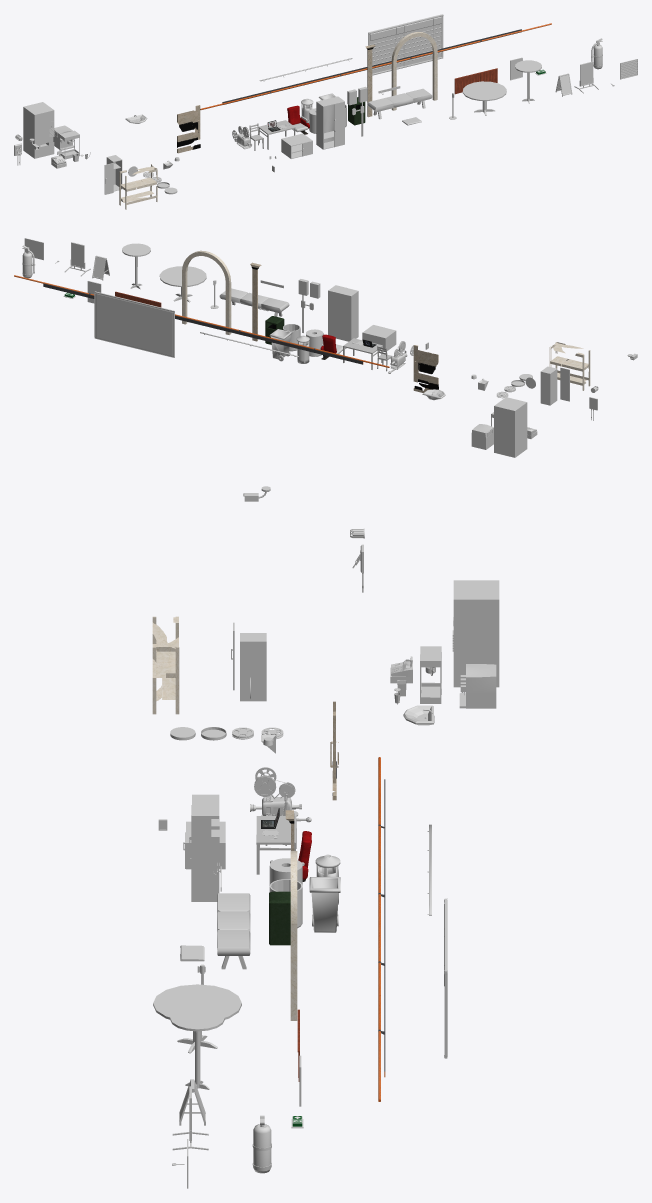
The model's file is MostOfThePropsWithUnwraps.FBX.
3 views of the same model, one above another, from view 1: azimuth 30°, elevation 25°; view 2: azimuth 150°, elevation 25°; view 3: azimuth 270°, elevation 25° (orthographic). The views are drawn at different scales.
Visible parts, largest first — view 1: movieInfo, SodaVendingMachine, Railing, Closet, shelf002, WallArcDecoration2, MovieTheaterDoor, waitingChair, TableRound, WallPanel, Cabinet, ClosetDoor (+11 smaller); view 2: movieInfo, SodaVendingMachine, Closet, Railing, WallArcDecoration2, shelf002, MovieTheaterDoor, TableRound, waitingChair, Locker, Cabinet, SodaMachine (+9 smaller); view 3: SodaVendingMachine, Closet, TableRound, waitingChair, shelf002, Locker, Railing, SodaMachine, CarbageBin3, TableRoundTall, WallArcDecoration2, CarbageBox (+2 smaller).
Part boxes in pixels (bbox=[...]): movieInfo: bbox=[368, 14, 443, 75]; SodaVendingMachine: bbox=[23, 102, 54, 158]; Railing: bbox=[200, 23, 551, 109]; Closet: bbox=[316, 96, 344, 149]; shelf002: bbox=[119, 164, 157, 209]; WallArcDecoration2: bbox=[391, 32, 437, 110]; MovieTheaterDoor: bbox=[177, 105, 200, 153]; waitingChair: bbox=[367, 88, 432, 119]; TableRound: bbox=[462, 81, 506, 115]; WallPanel: bbox=[454, 68, 497, 94]; Cabinet: bbox=[281, 133, 312, 158]; ClosetDoor: bbox=[334, 101, 344, 147]; movieInfo: bbox=[94, 291, 174, 357]; SodaVendingMachine: bbox=[494, 397, 527, 457]; Closet: bbox=[328, 285, 358, 341]; Railing: bbox=[14, 275, 389, 367]; WallArcDecoration2: bbox=[182, 250, 231, 334]; shelf002: bbox=[549, 342, 590, 390]; MovieTheaterDoor: bbox=[413, 345, 438, 392]; TableRound: bbox=[159, 266, 206, 302]; waitingChair: bbox=[219, 288, 289, 316]; Locker: bbox=[540, 366, 557, 405]; Cabinet: bbox=[362, 325, 396, 352]; SodaMachine: bbox=[471, 424, 493, 449]; SodaVendingMachine: bbox=[452, 580, 499, 687]; Closet: bbox=[192, 794, 219, 901]; TableRound: bbox=[153, 984, 241, 1053]; waitingChair: bbox=[217, 893, 250, 969]; shelf002: bbox=[152, 616, 179, 714]; Locker: bbox=[240, 633, 266, 701]; Railing: bbox=[378, 757, 385, 1101]; SodaMachine: bbox=[459, 664, 496, 708]; CarbageBin3: bbox=[309, 877, 340, 932]; TableRoundTall: bbox=[170, 1006, 224, 1092]; WallArcDecoration2: bbox=[290, 851, 297, 1020]; CarbageBox: bbox=[269, 891, 290, 945].
Size of the model in its own units: 1083 by 131 by 276.
